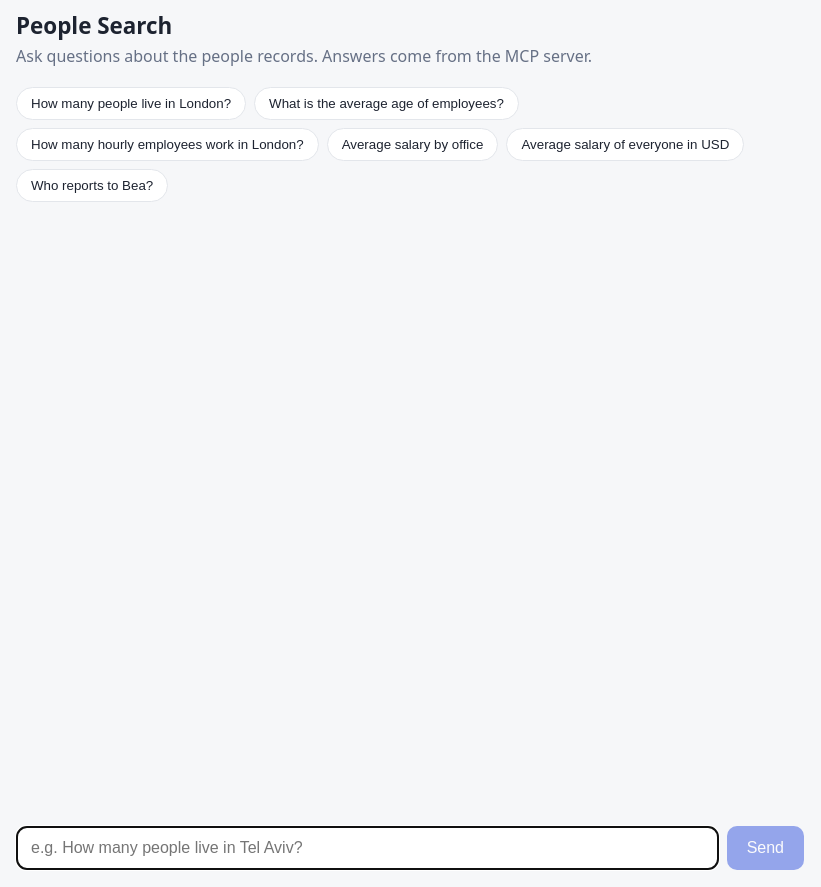
Scenario: People Search chat › shows an error event from the stream inline
Type "London?" into the field at (367, 848), box 16,826 -> 719,870
Then press Enter
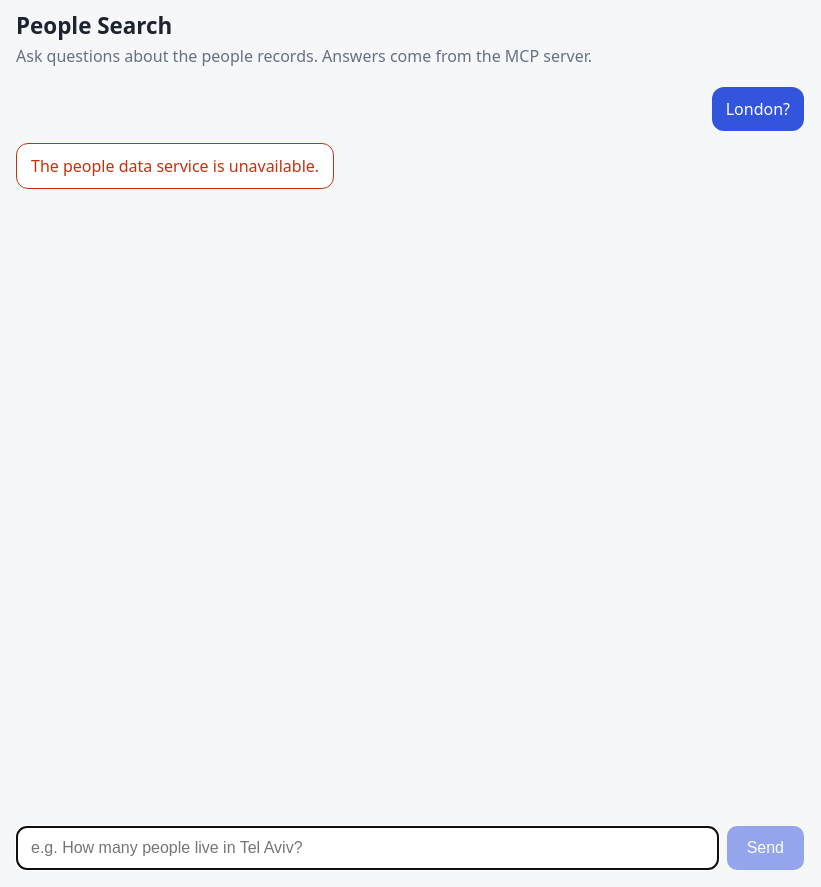
Result: the text "The people data service is unavailable." is shown at 31,154 -> 319,178
